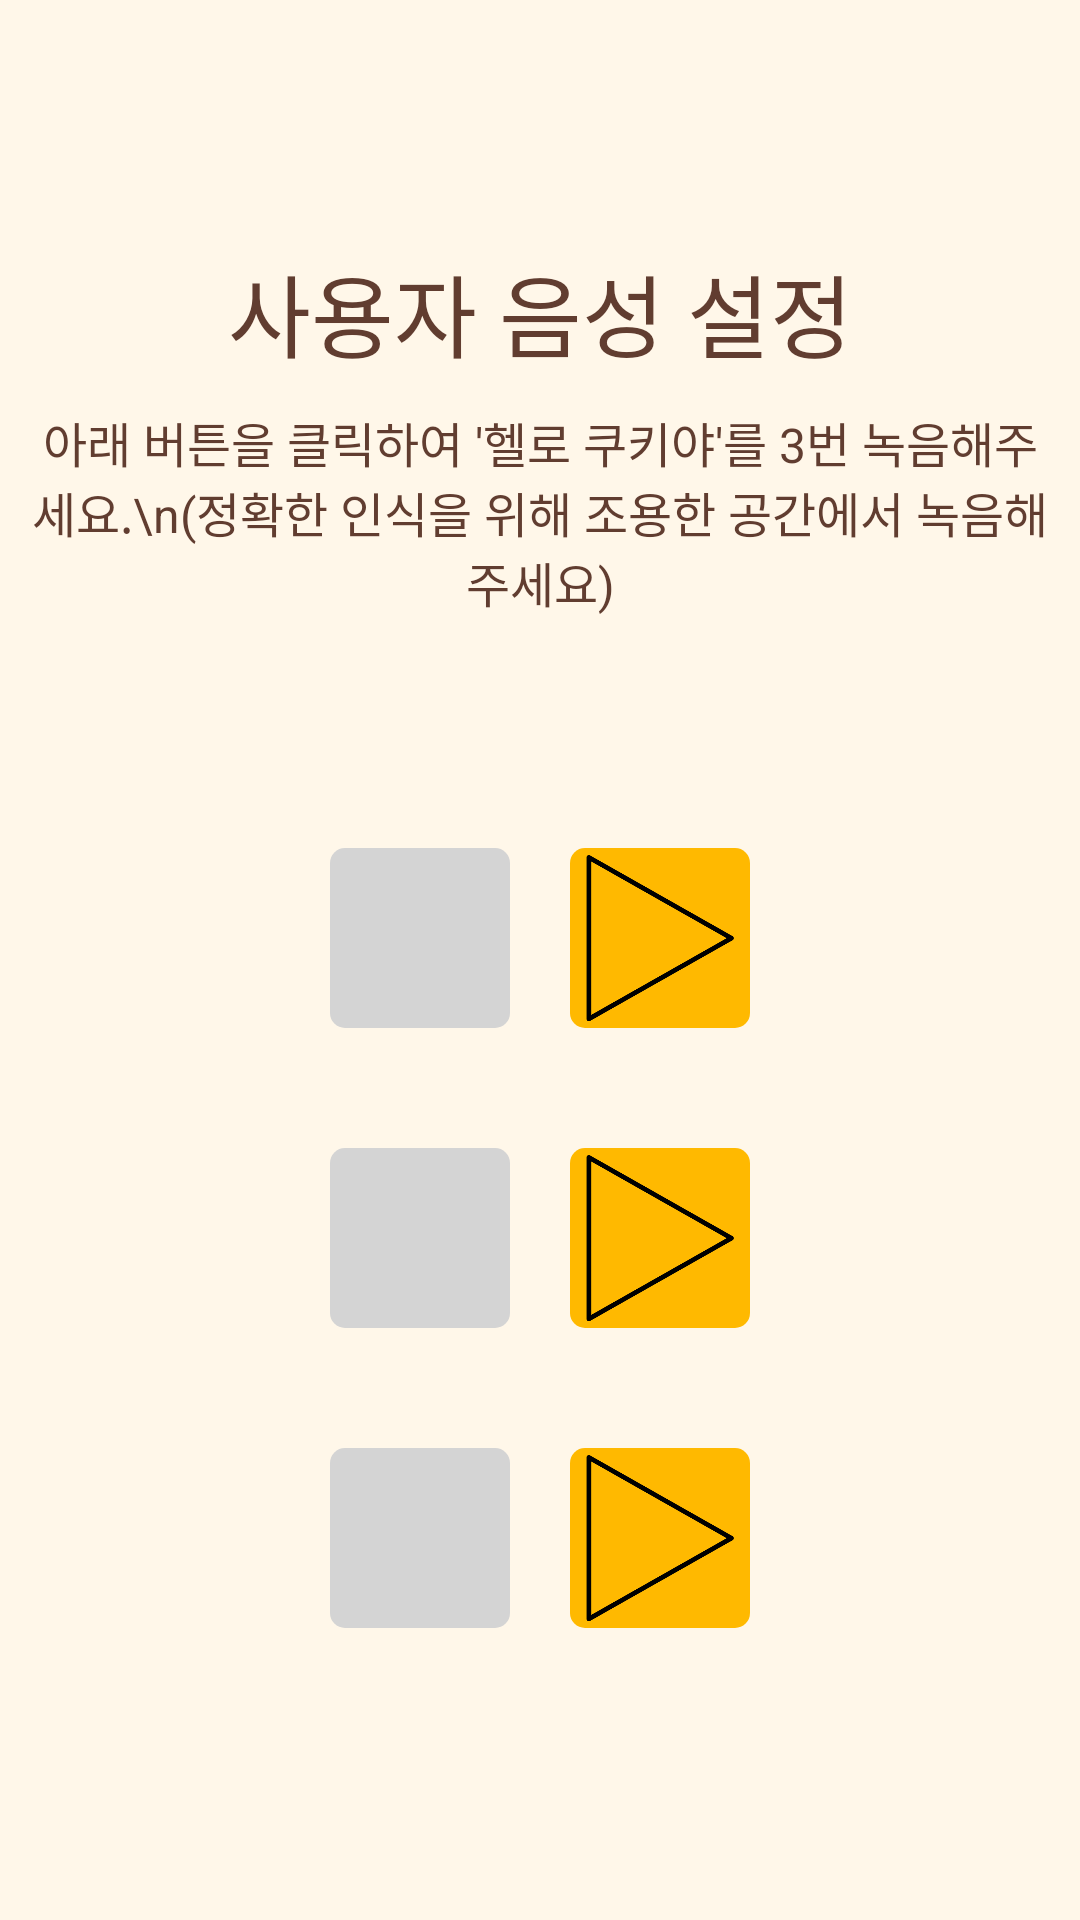

Screen size 1080x1920. Icon name, then its center in pixels as (x,y):
play: (660,938), (660,1238), (660,1538)
